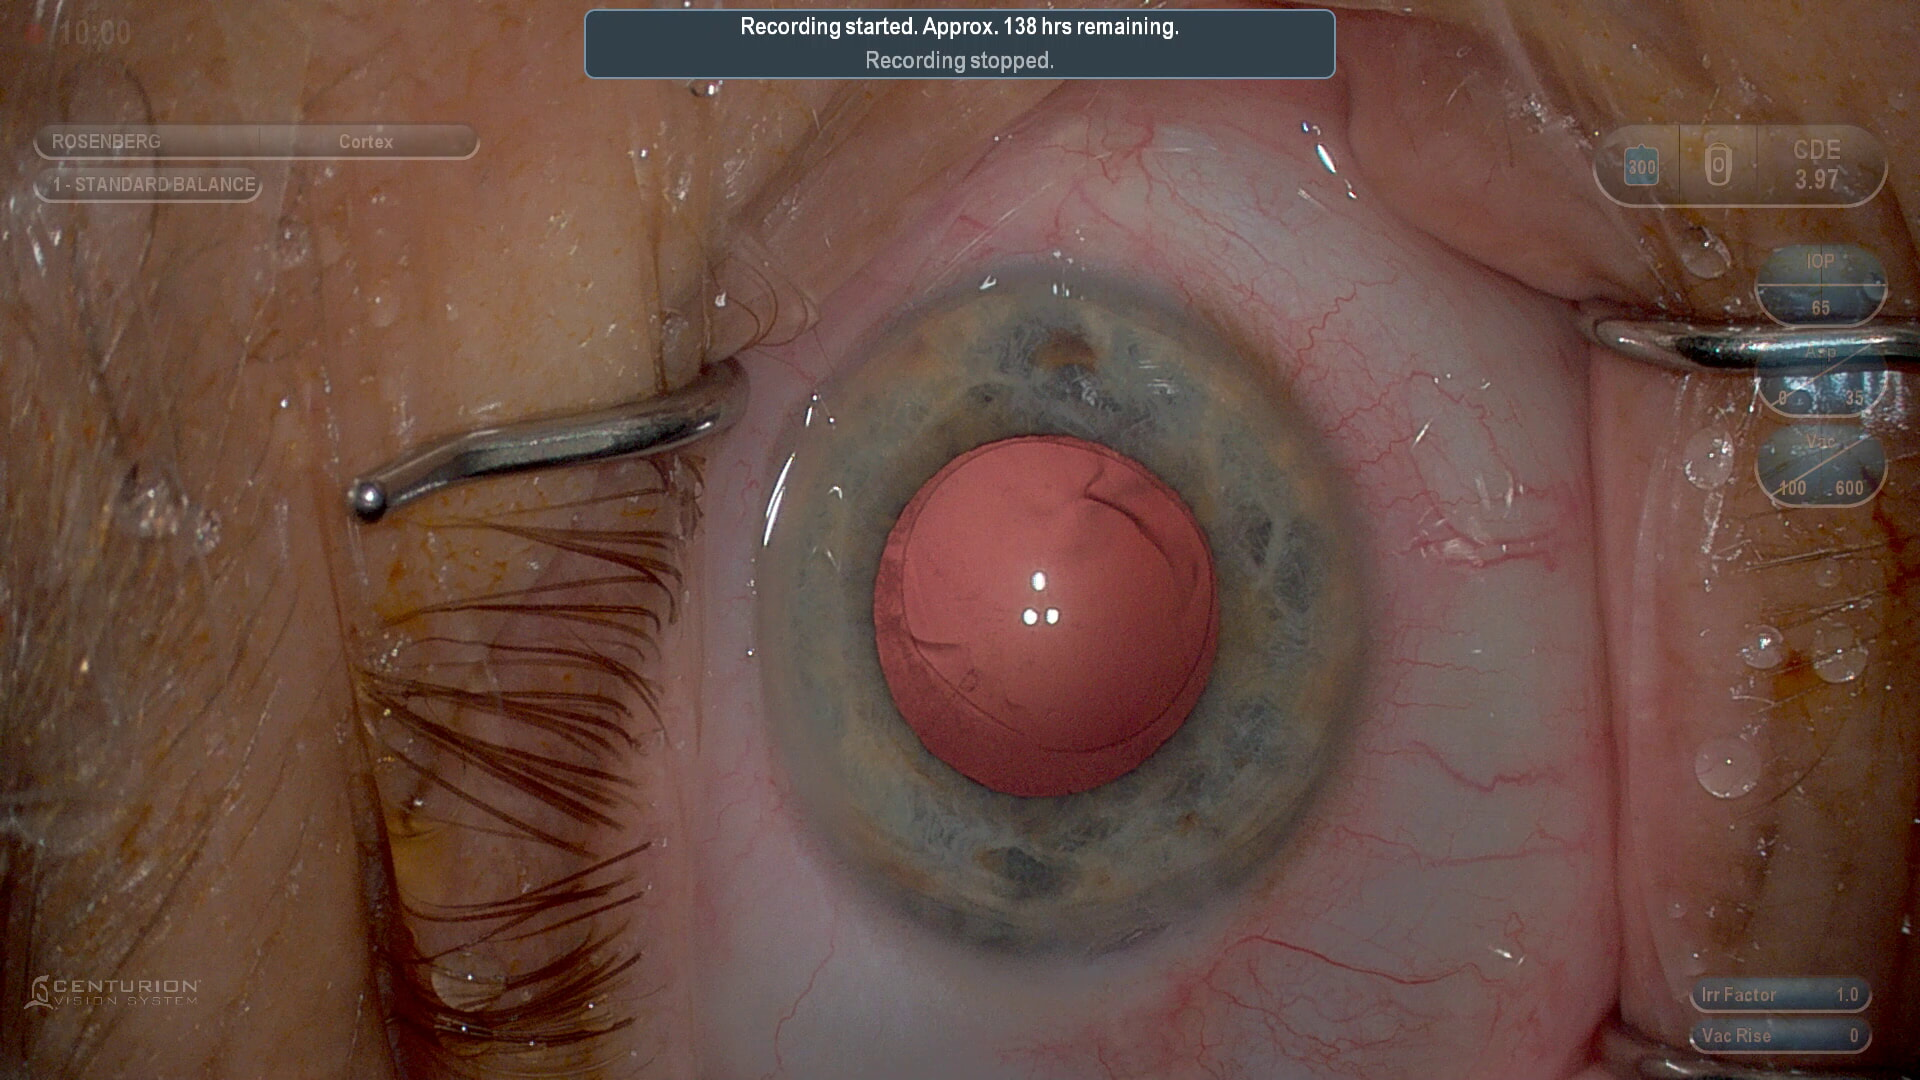iris: (767, 290, 1357, 956)
pupil: (869, 433, 1227, 800)
